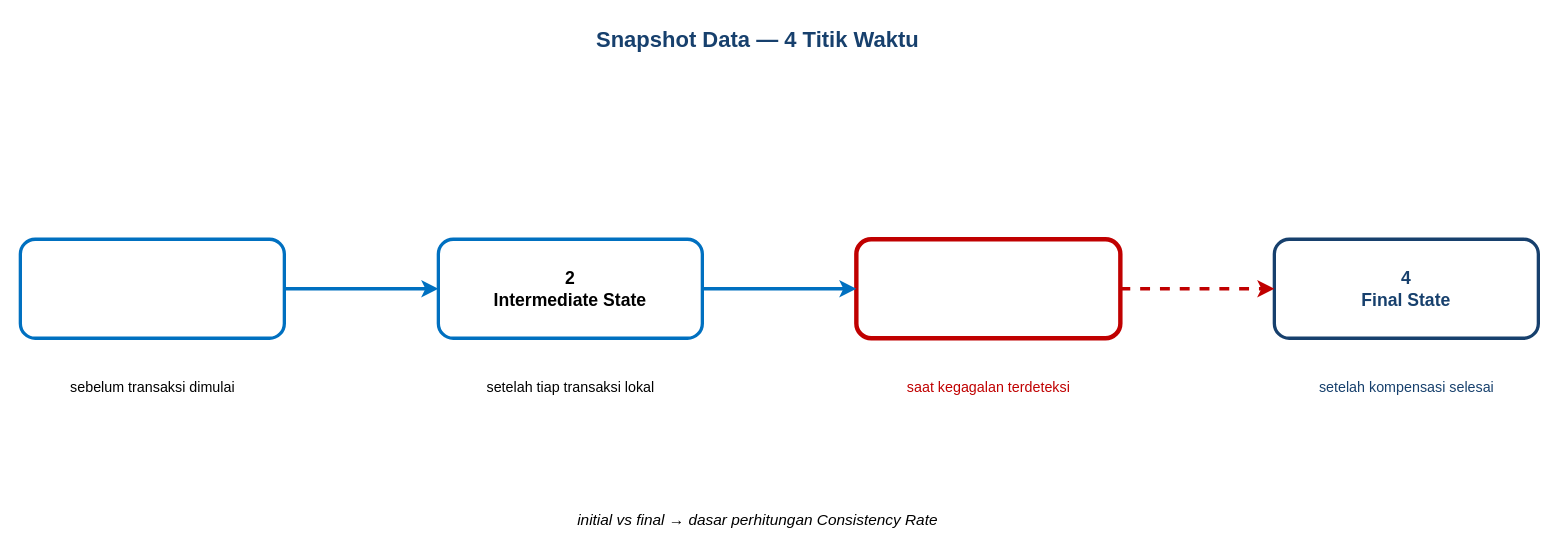
Image size: 1559x554. Some labels were removed from this diagram. Each missing label, with the centre of its shape:
1 Initial State: point (151, 288)
3 Failure State: point (988, 288)
